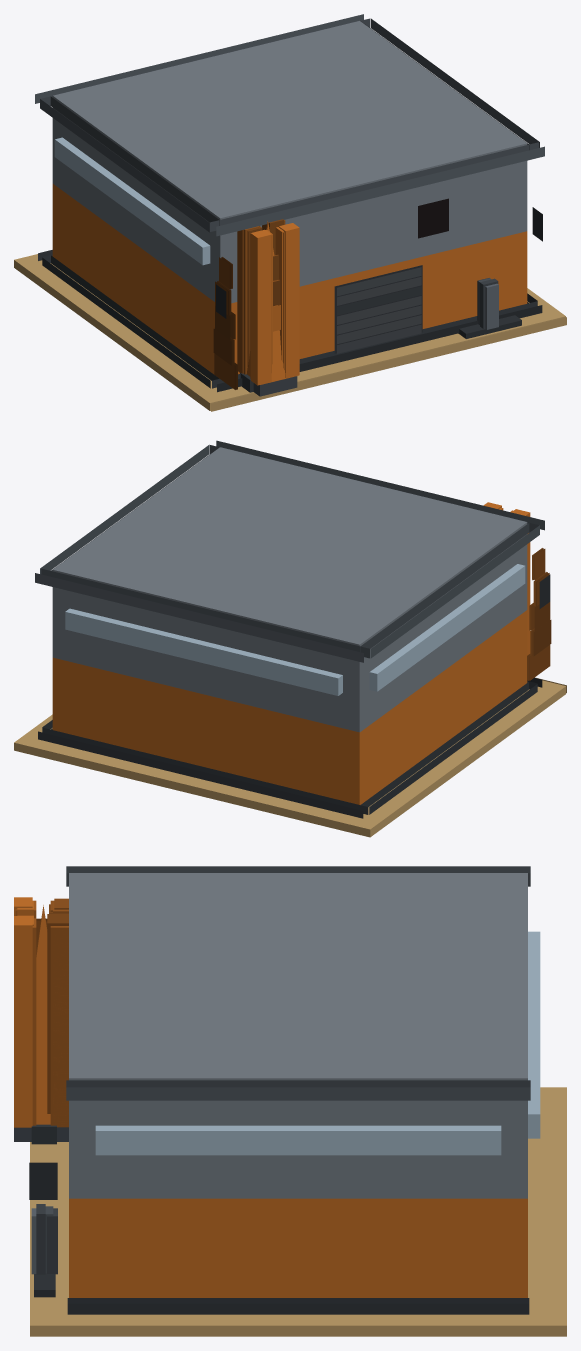
The model's file is DrillWormSil.fbx.
3 views of the same model, one above another, from view 1: azimuth 30°, elevation 25°; view 2: azimuth 150°, elevation 25°; view 3: azimuth 270°, elevation 25° (orthographic). The views are drawn at different scales.
Visible parts, largest first — view 1: OR_S_All; view 2: OR_S_All; view 3: OR_S_All.
Boxes of the visible parts, left/top/right/bottom form: OR_S_All: left=14, top=14, right=566, bottom=411; OR_S_All: left=14, top=440, right=566, bottom=837; OR_S_All: left=14, top=866, right=566, bottom=1336.
Bounding box in the file's own units: 42.04 × 19.9 × 41.24.
